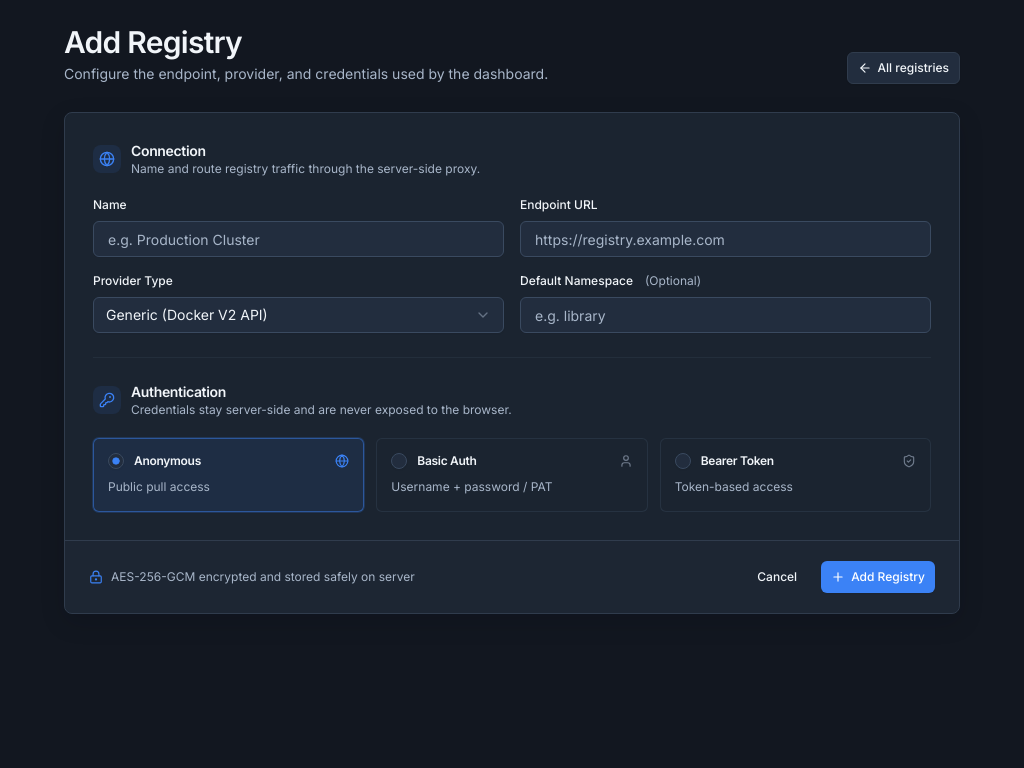
Test case: RegistryForm › renders keyboard-accessible token toggle button when bearer auth is selected
The image size is (1024, 768).
Click the radio button named "Bearer Token": [683, 461] box [675,453,691,469]
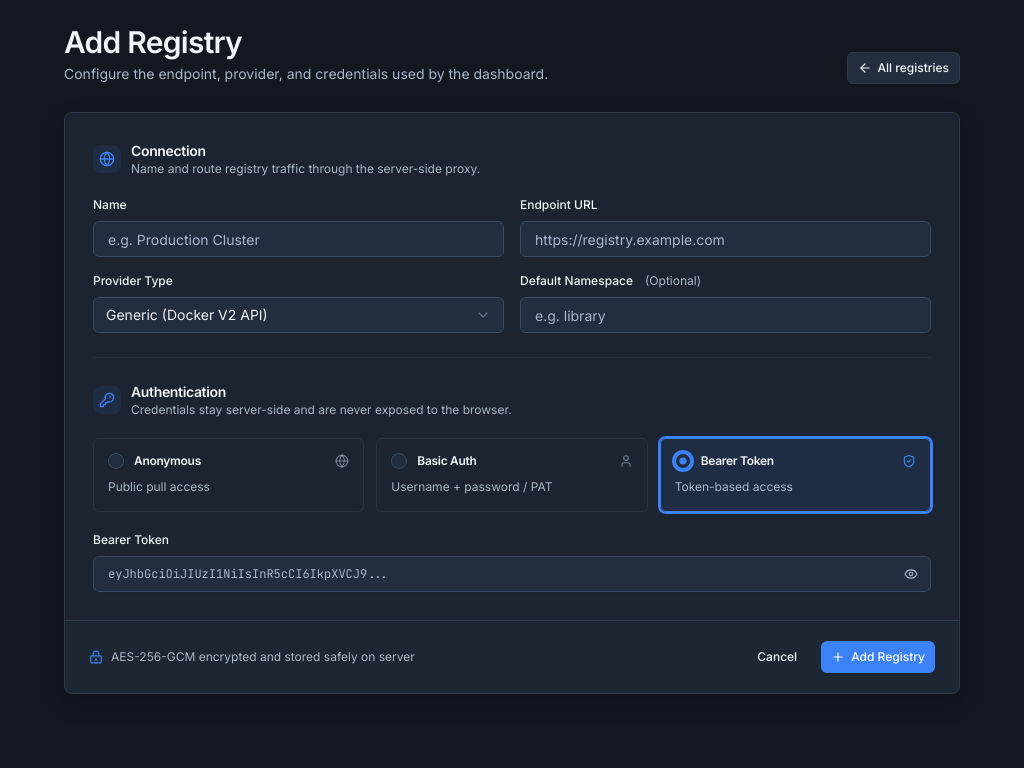
Check: the button named "Show token" is shown
Click the button named "Show token": [911, 574] box [899,562,923,586]
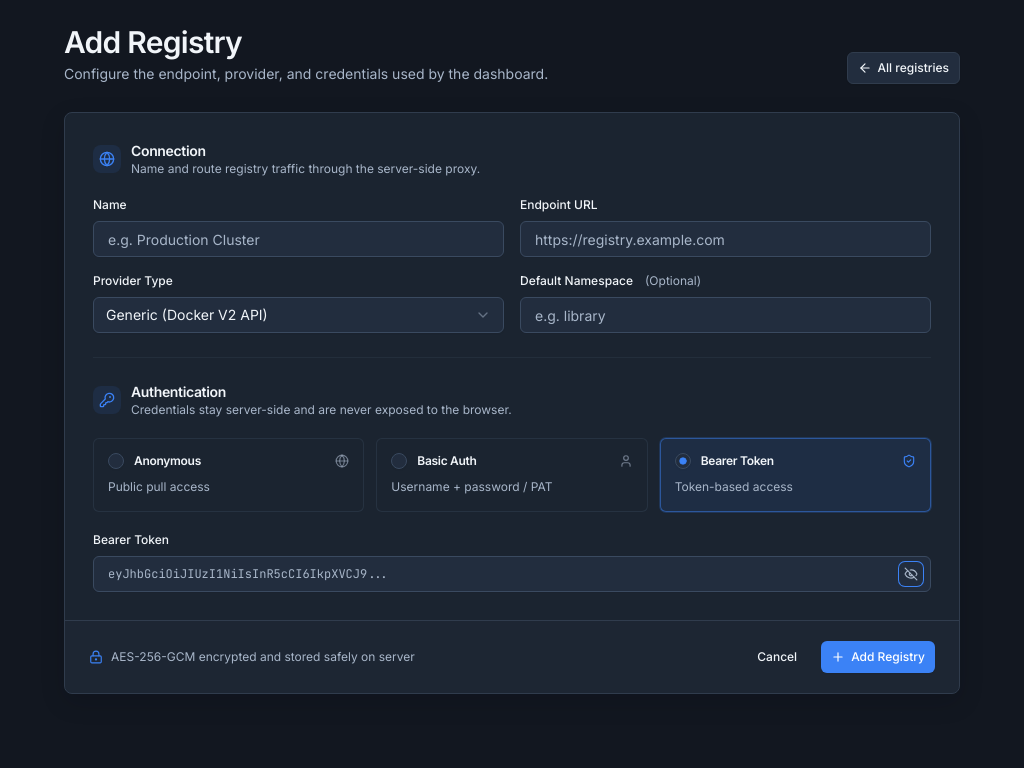
Check: the button named "Hide token" is shown, box [899,562,923,586]
